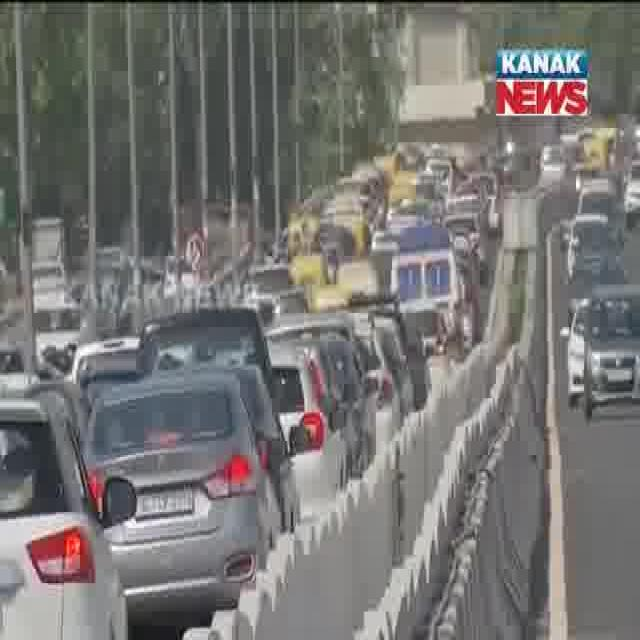ambulance: (384, 236, 466, 302)
